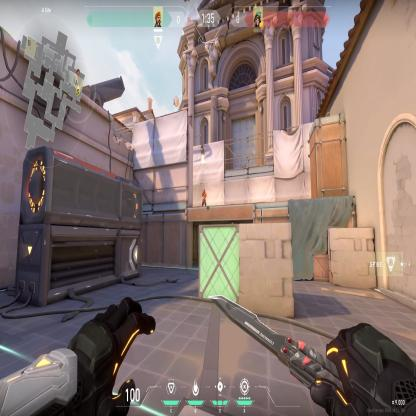enemy: (201, 187, 207, 206)
